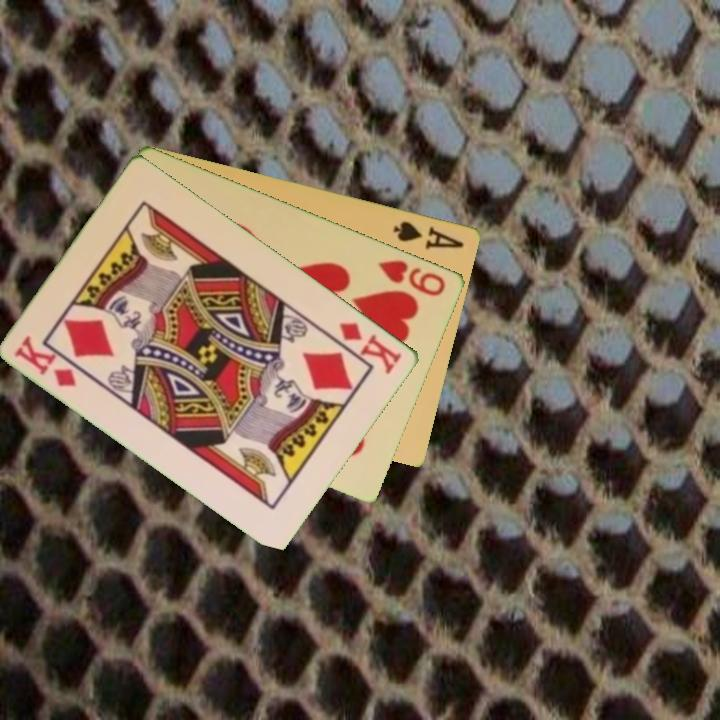9h: (375, 256, 449, 299)
As: (390, 217, 467, 252)
Kd: (336, 318, 405, 377), (11, 331, 80, 390)
